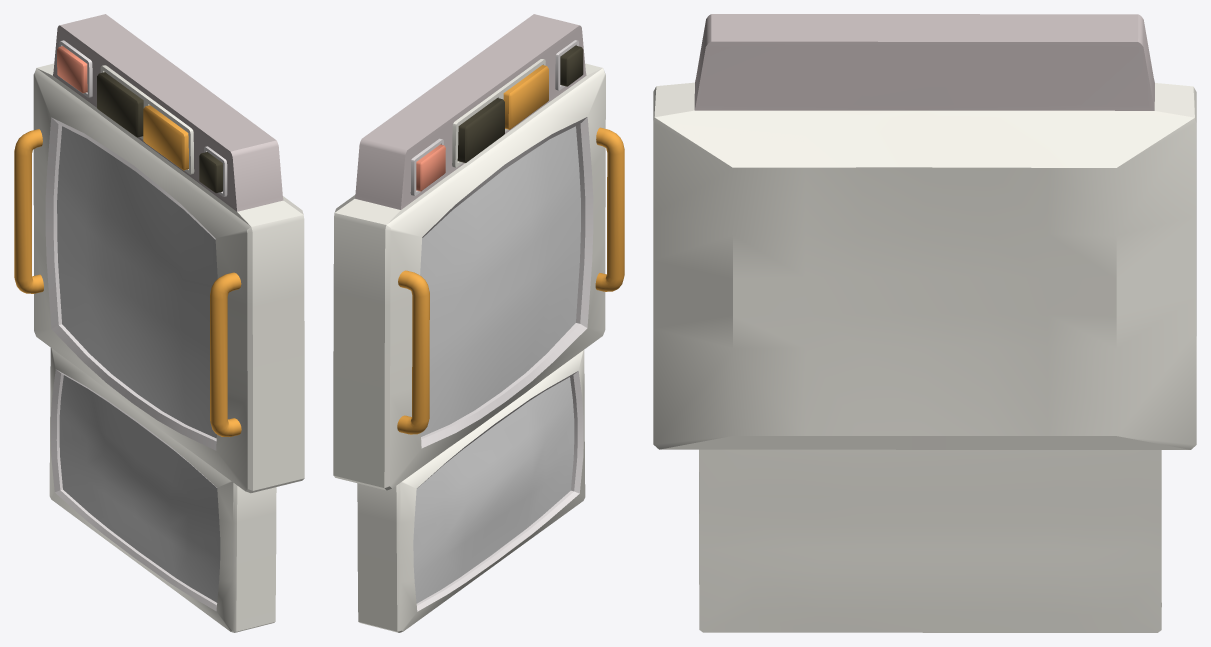
Rendered from LabTablet.fbx.
3 views of the same model, side by side, from view 1: azimuth 30°, elevation 25°; view 2: azimuth 150°, elevation 25°; view 3: azimuth 270°, elevation 25° (orthographic). The views are drawn at different scales.
Visible parts, largest first — view 1: Tablet_TopScreen, Tablet_SensorReadout, Tablet_SandboxB, Tablet_LabB, Tablet_ResetB, Tablet_SettingsB; view 2: Tablet_TopScreen, Tablet_SensorReadout, Tablet_SandboxB, Tablet_LabB, Tablet_ResetB, Tablet_SettingsB; view 3: Tablet_TopScreen, Tablet_SensorReadout.
Boxes of the visible parts, x1=… form: Tablet_TopScreen: x1=14, y1=14, x2=304, y2=493; Tablet_SensorReadout: x1=49, y1=348, x2=276, y2=632; Tablet_SandboxB: x1=97, y1=72, x2=143, y2=137; Tablet_LabB: x1=143, y1=105, x2=188, y2=170; Tablet_ResetB: x1=57, y1=46, x2=87, y2=93; Tablet_SettingsB: x1=199, y1=152, x2=222, y2=193; Tablet_TopScreen: x1=333, y1=14, x2=624, y2=490; Tablet_SensorReadout: x1=357, y1=350, x2=585, y2=632; Tablet_SandboxB: x1=457, y1=98, x2=504, y2=162; Tablet_LabB: x1=503, y1=65, x2=548, y2=129; Tablet_ResetB: x1=416, y1=144, x2=445, y2=191; Tablet_SettingsB: x1=560, y1=45, x2=583, y2=86; Tablet_TopScreen: x1=653, y1=14, x2=1196, y2=449; Tablet_SensorReadout: x1=699, y1=449, x2=1161, y2=632.
Size of the model in its own units: 0.1459 by 0.5888 by 0.4873.
